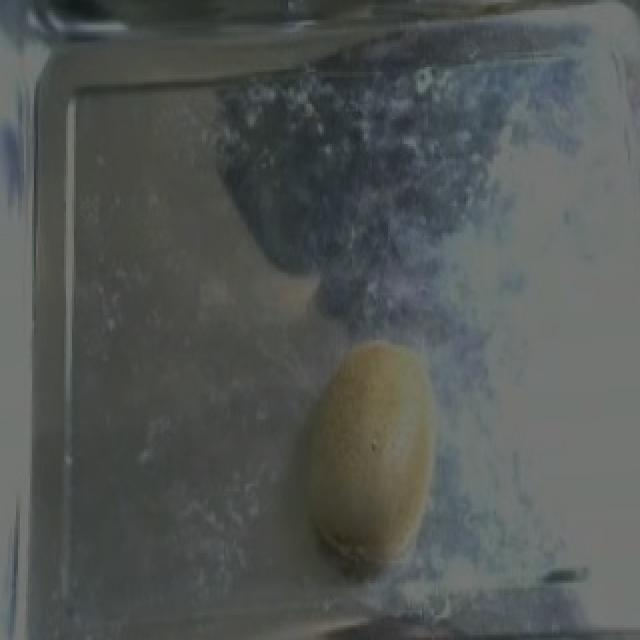Fruit: (266, 322, 462, 578)
